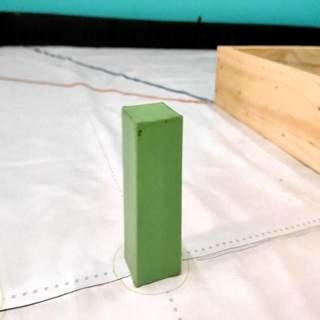greenbox: (122, 101, 184, 290)
